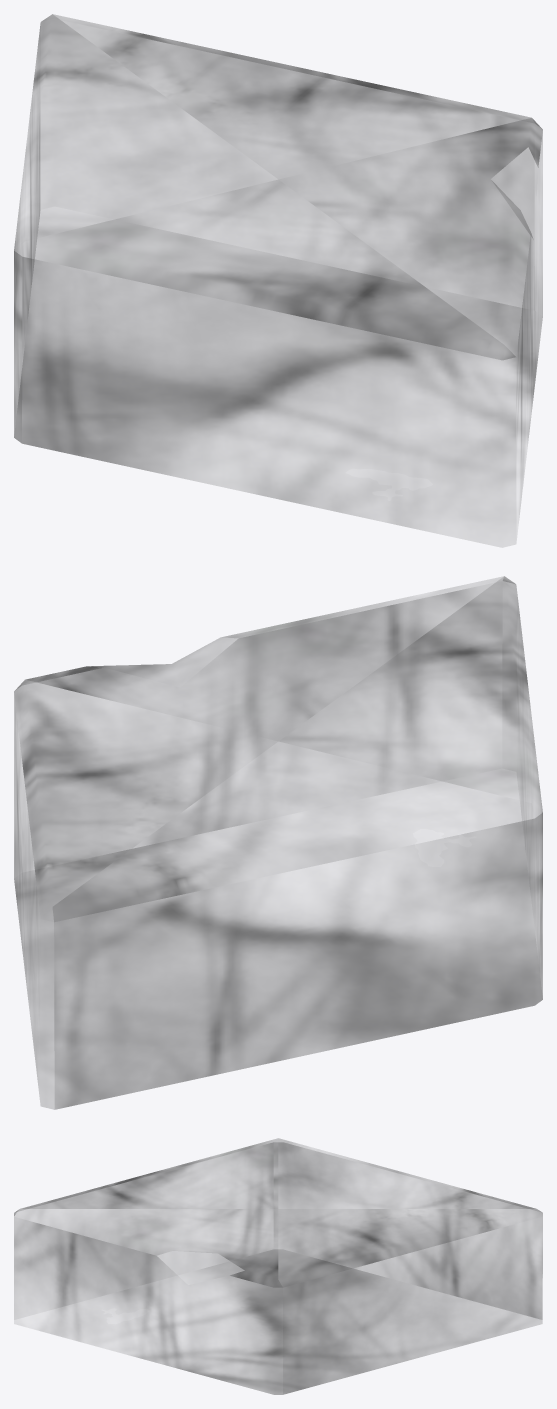
The picture shows the model from 3 angles, top to bottom: view 1: azimuth 30°, elevation 25°; view 2: azimuth 150°, elevation 25°; view 3: azimuth 270°, elevation 25°; orthographic projection. The views are drawn at different scales.
Parts seen in each view (by area): view 1: SM_SpectralLoggingAxe_Refined_2H_01_LOD0; view 2: SM_SpectralLoggingAxe_Refined_2H_01_LOD0; view 3: SM_SpectralLoggingAxe_Refined_2H_01_LOD0.
Boxes of the visible parts, x1,y1,x2,y2 form: SM_SpectralLoggingAxe_Refined_2H_01_LOD0: [14, 14, 542, 537]; SM_SpectralLoggingAxe_Refined_2H_01_LOD0: [14, 576, 542, 1109]; SM_SpectralLoggingAxe_Refined_2H_01_LOD0: [14, 1138, 542, 1394].
Size of the model in its own units: 0.1401 by 0.0508 by 0.2152.
